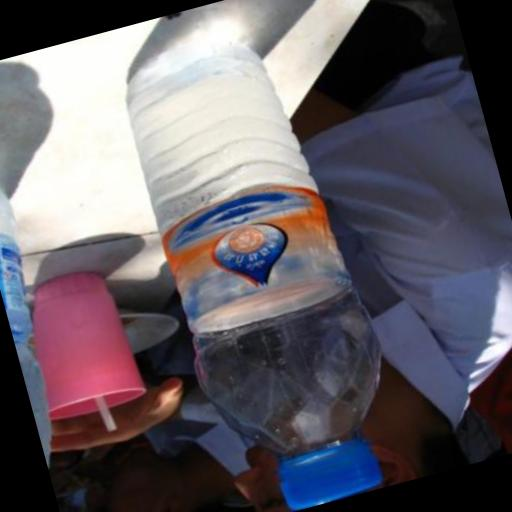Coca: (99, 1, 431, 512), (0, 161, 101, 492)
